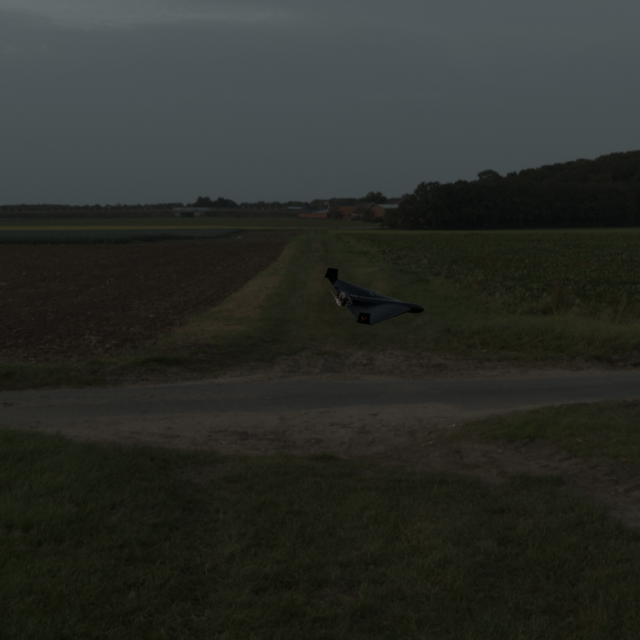shahed: (325, 268, 425, 325)
